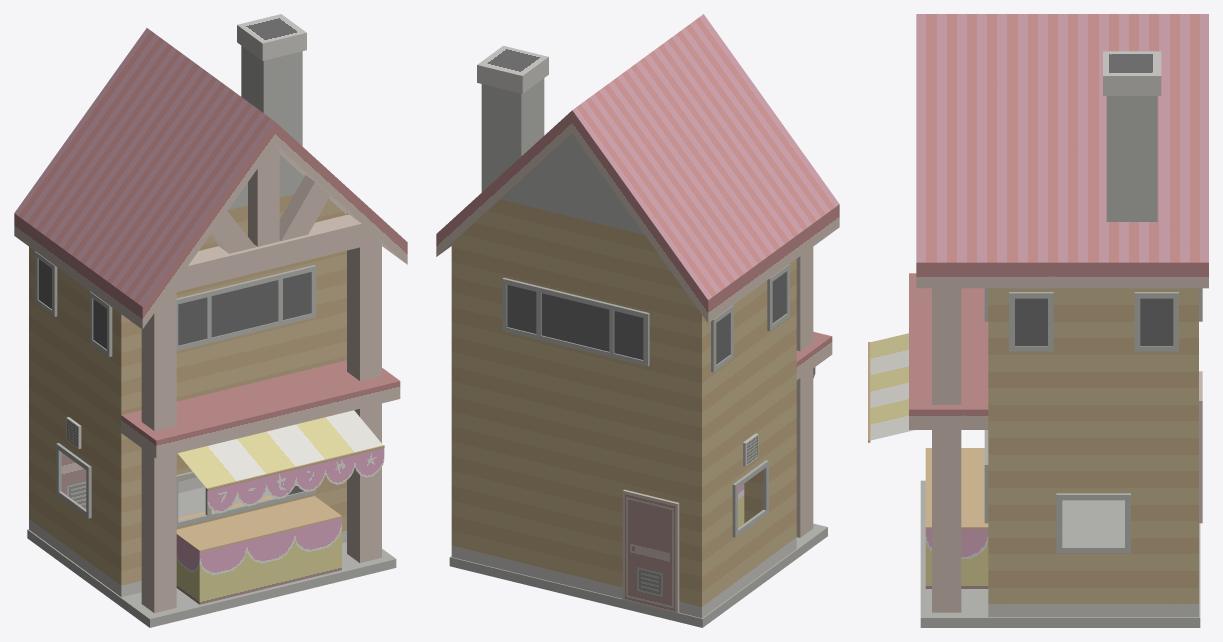
File: 0460_Balloon_Shop.glb
3 renders of one model, left to right at view 1: azimuth 30°, elevation 25°; view 2: azimuth 150°, elevation 25°; view 3: azimuth 270°, elevation 25°, orthographic. The views are drawn at different scales.
Parts seen in each view (by area): view 1: part_0; view 2: part_0; view 3: part_0.
Boxes of the visible parts, x1,y1,x2,y2 form: part_0: [14, 14, 407, 627]; part_0: [436, 14, 839, 627]; part_0: [868, 14, 1208, 627].
Size of the model in its own units: 4.78 by 8.24 by 4.66.
1 material, 1 textured.
